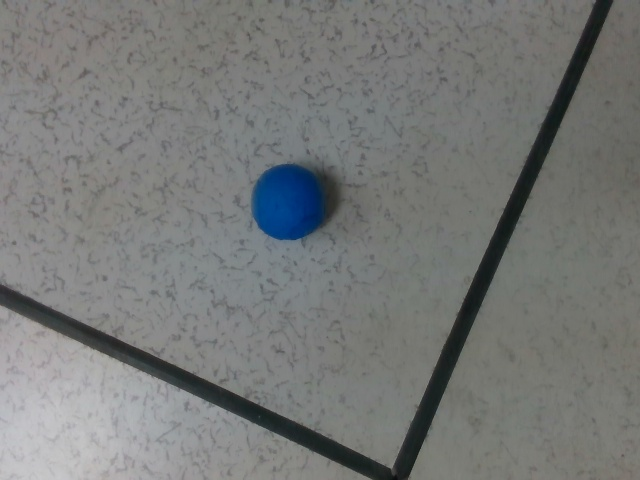blueball: (245, 161, 326, 242)
